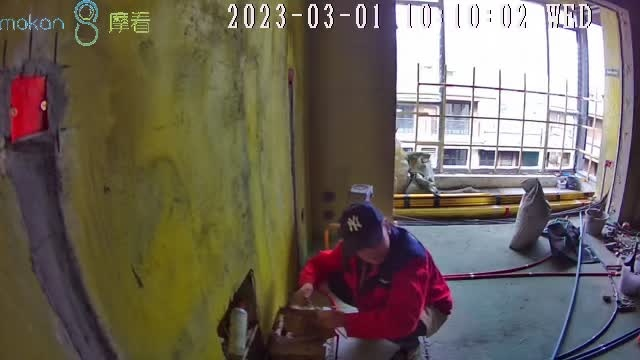people: (298, 201, 452, 358)
window: (396, 1, 605, 195)
